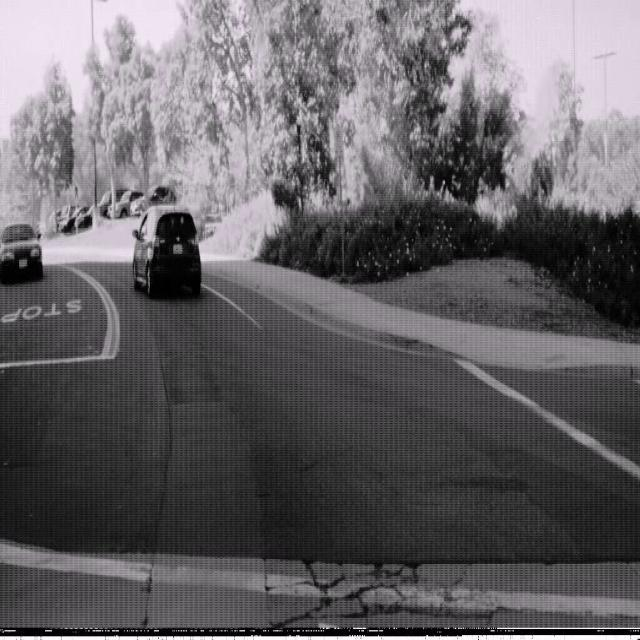pedestrianCrossing: (67, 176, 84, 208)
